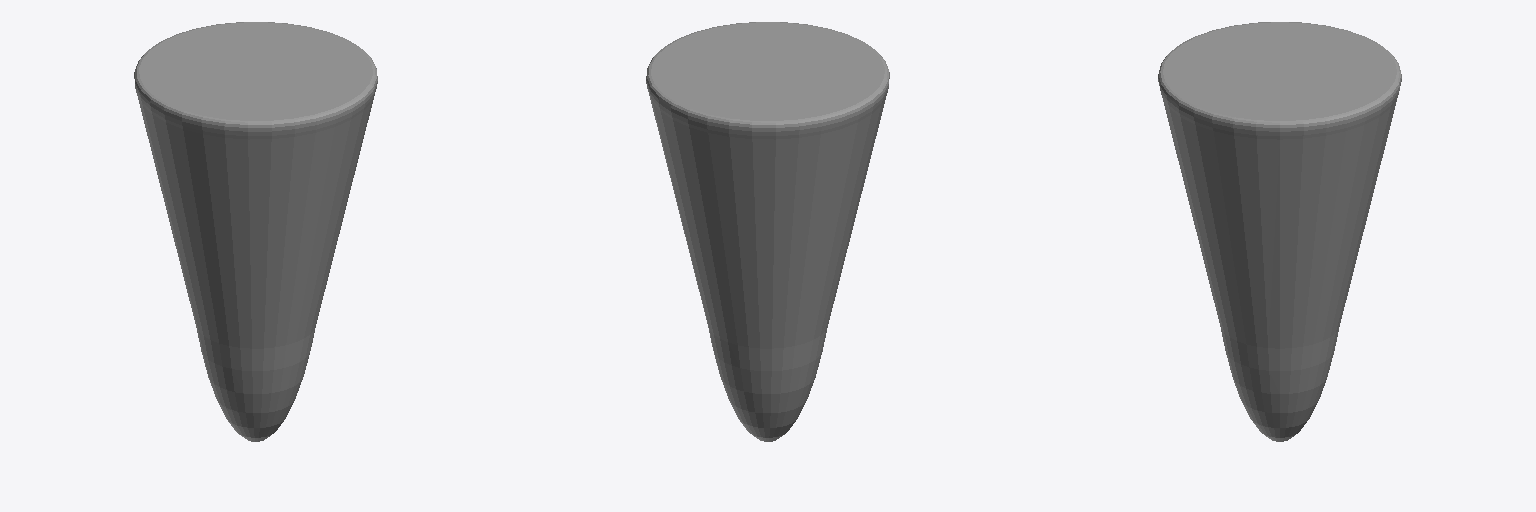
File: table.obj
The picture shows the model from 3 angles: view 1: azimuth 30°, elevation 25°; view 2: azimuth 150°, elevation 25°; view 3: azimuth 270°, elevation 25°; orthographic projection.
Visible parts, largest first — view 1: Table_110.002; view 2: Table_110.002; view 3: Table_110.002.
Boxes of the visible parts, box(x1,y1,x2,y2) form: Table_110.002: box(134, 22, 377, 441); Table_110.002: box(646, 22, 889, 441); Table_110.002: box(1158, 22, 1401, 441).
Size of the model in its own units: 15.35 by 25.57 by 15.35.